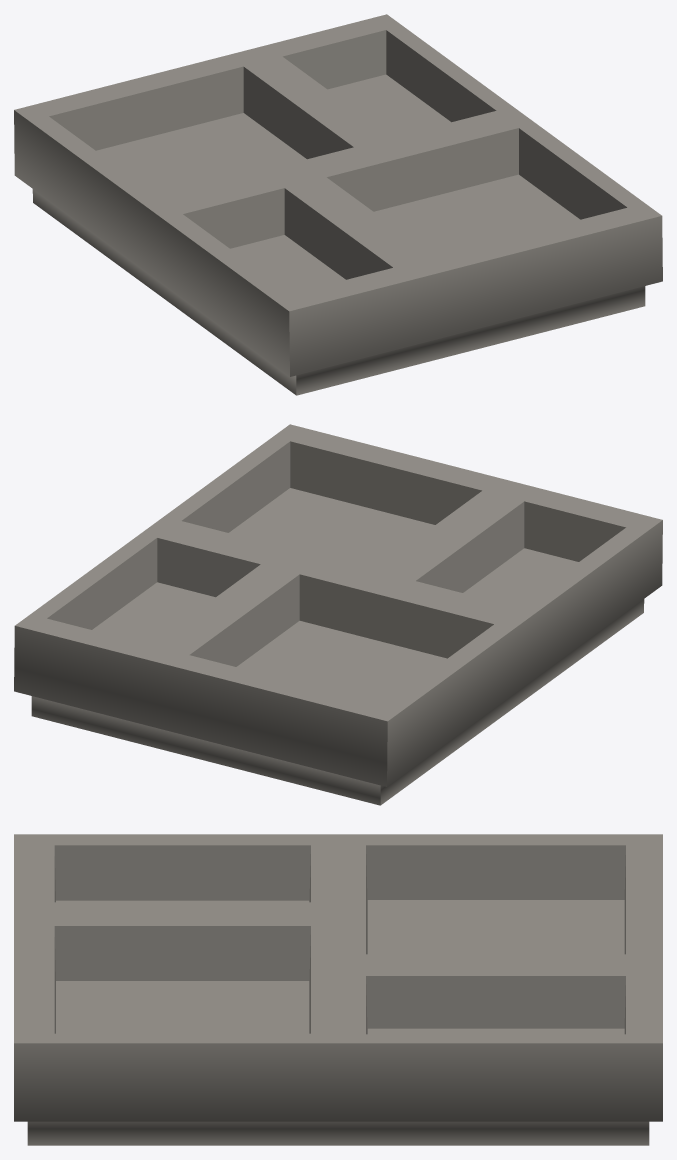
Rendered from SM_Pan_01.FBX.
3 renders of one model, top to bottom at view 1: azimuth 30°, elevation 25°; view 2: azimuth 150°, elevation 25°; view 3: azimuth 270°, elevation 25°, orthographic. The views are drawn at different scales.
Visible parts, largest first — view 1: SM_Pan_01; view 2: SM_Pan_01; view 3: SM_Pan_01.
Boxes of the visible parts, <box> form: SM_Pan_01: <box>14,14,662,395</box>; SM_Pan_01: <box>14,424,662,805</box>; SM_Pan_01: <box>14,834,662,1145</box>.
Size of the model in its own units: 27.65 by 35.28 by 6.82.
